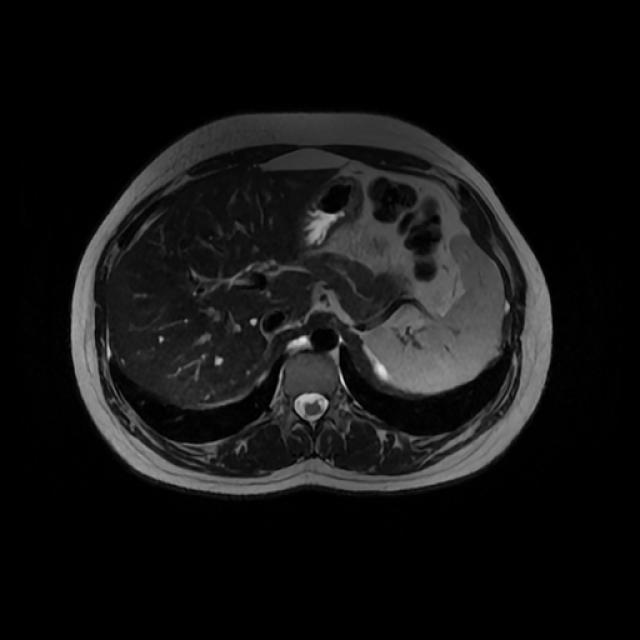sol: (372, 363, 387, 382)
